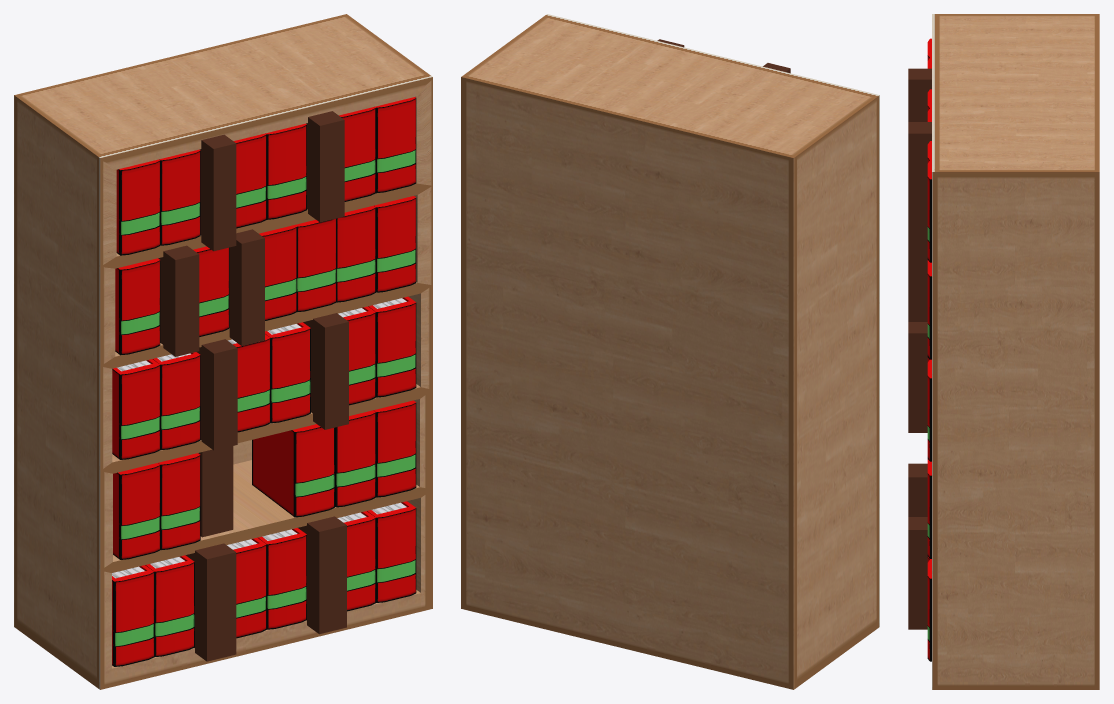
The model's file is Bookshelf_PartialFilled_Red.fbx.
The picture shows the model from 3 angles, left to right: view 1: azimuth 30°, elevation 25°; view 2: azimuth 150°, elevation 25°; view 3: azimuth 270°, elevation 25°; orthographic projection. The views are drawn at different scales.
Visible parts, largest first — view 1: Bookshelf_red; view 2: Bookshelf_red; view 3: Bookshelf_red.
Boxes of the visible parts, <box> form: Bookshelf_red: <box>14,14,432,689</box>; Bookshelf_red: <box>461,14,879,689</box>; Bookshelf_red: <box>908,14,1099,689</box>.
Bounding box in the file's own units: 127 × 194 × 64.92.
